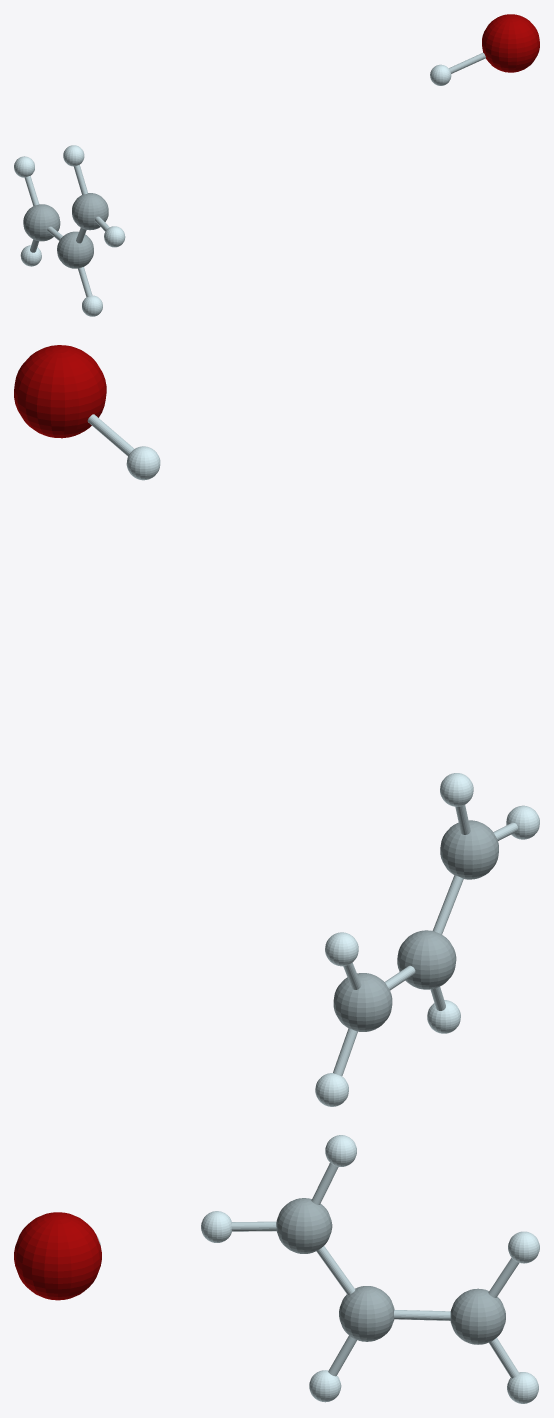
Rendered from irc_step_059.glb.
The picture shows the model from 3 angles, top to bottom: view 1: azimuth 30°, elevation 25°; view 2: azimuth 150°, elevation 25°; view 3: azimuth 270°, elevation 25°; orthographic projection. The views are drawn at different scales.
Visible parts, largest first — view 1: Renderer Node; view 2: Renderer Node; view 3: Renderer Node.
Part boxes in pixels (x1,y1,x2,y2): Renderer Node: [14, 14, 539, 316]; Renderer Node: [14, 345, 539, 1106]; Renderer Node: [14, 1135, 539, 1403].
Bounding box in the file's own units: 8.24 × 5.87 × 6.55.
